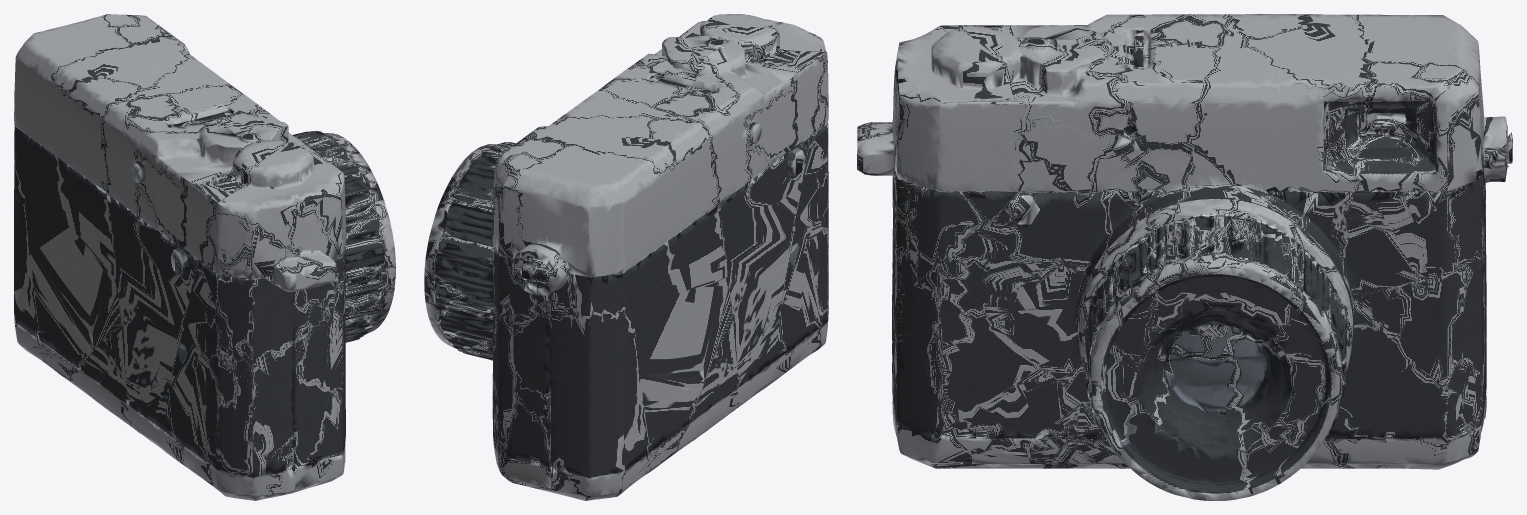
The model's file is vintage+camera+3d+model.glb.
The picture shows the model from 3 angles, left to right: view 1: azimuth 30°, elevation 25°; view 2: azimuth 150°, elevation 25°; view 3: azimuth 270°, elevation 25°; orthographic projection. The views are drawn at different scales.
Parts seen in each view (by area): view 1: tripo_node_a6aaa0a3-6361-40ec-85a5-6f2c473fb8ee; view 2: tripo_node_a6aaa0a3-6361-40ec-85a5-6f2c473fb8ee; view 3: tripo_node_a6aaa0a3-6361-40ec-85a5-6f2c473fb8ee.
Part boxes in pixels (box(x1,y1,x2,y2)): tripo_node_a6aaa0a3-6361-40ec-85a5-6f2c473fb8ee: box(14, 14, 395, 500); tripo_node_a6aaa0a3-6361-40ec-85a5-6f2c473fb8ee: box(424, 14, 828, 500); tripo_node_a6aaa0a3-6361-40ec-85a5-6f2c473fb8ee: box(857, 14, 1512, 500).
Size of the model in its own units: 0.5345 by 0.6575 by 0.9813.
Materials: 1 (1 with a texture image).
